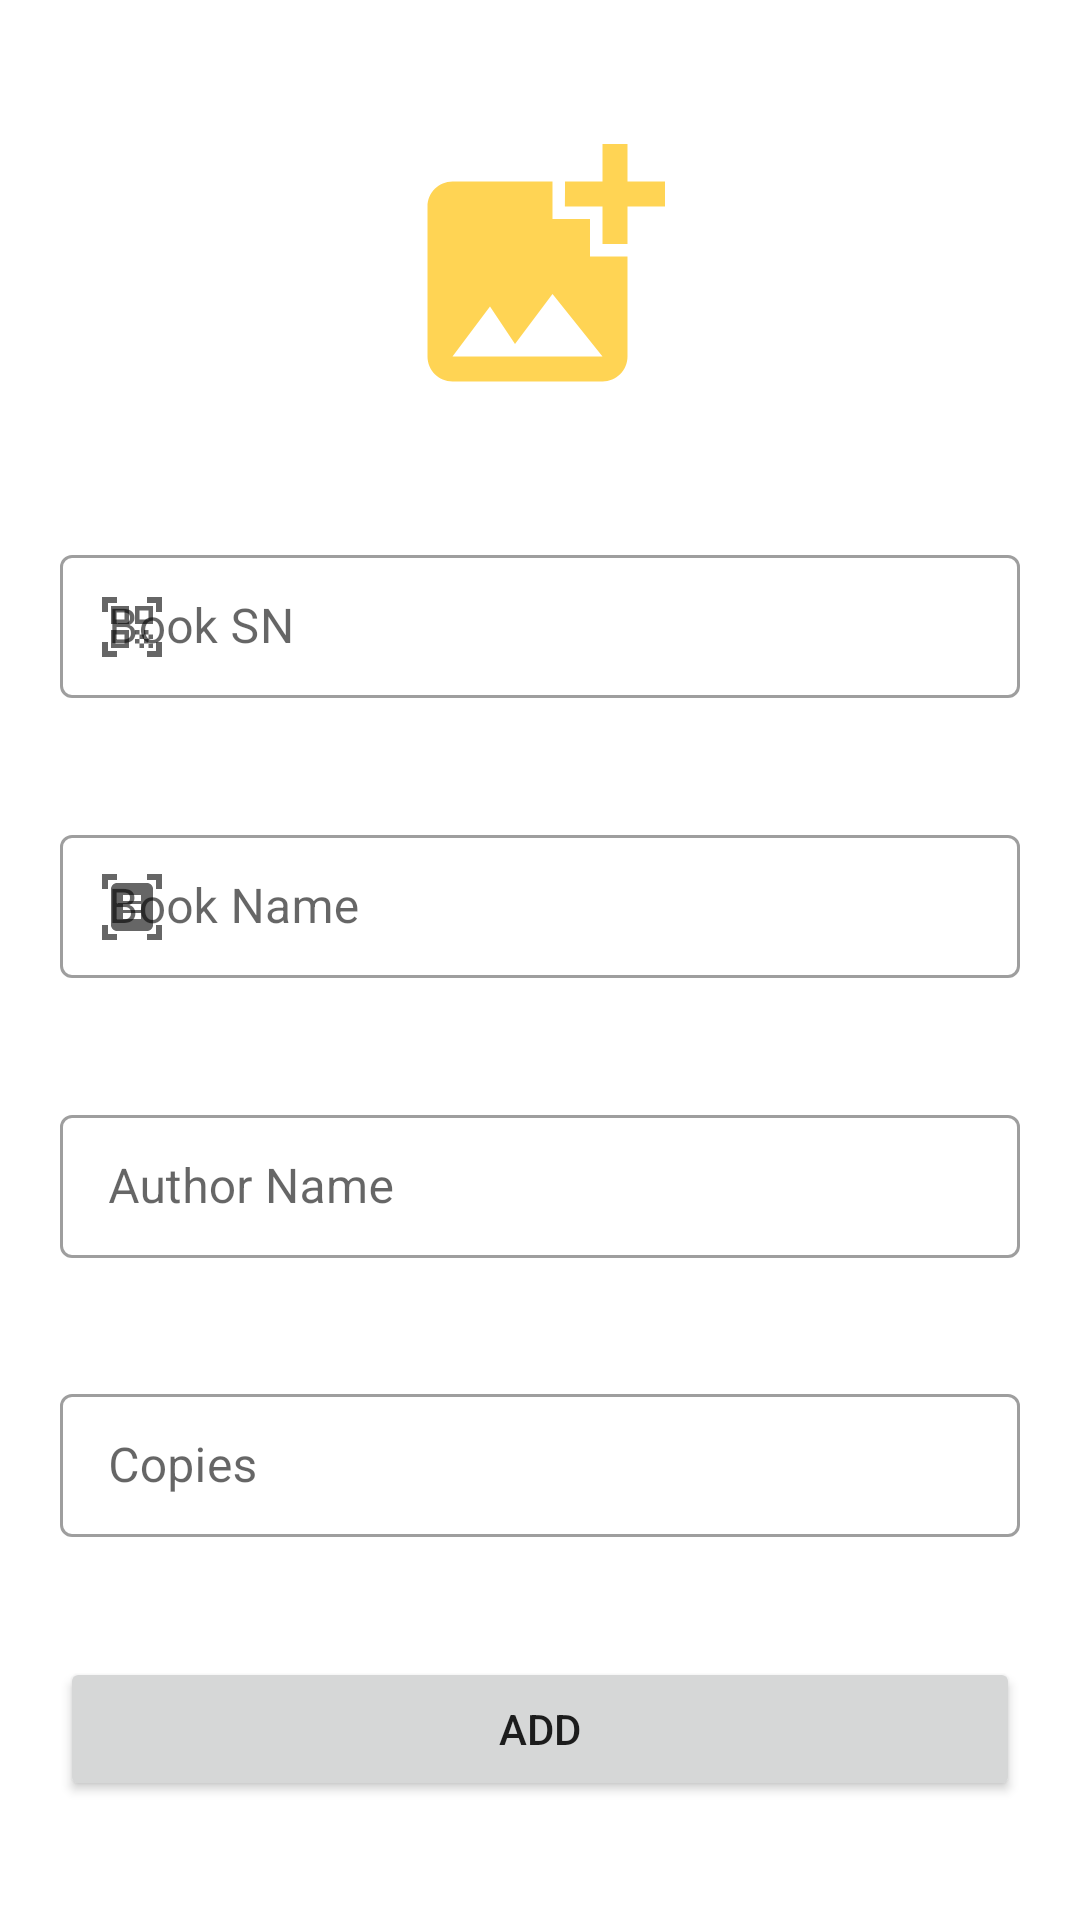

Where to tap for icons on this 1080 x 1920 app screen, as (x=x, y=y):
add photo alternate: (x=546, y=263)
